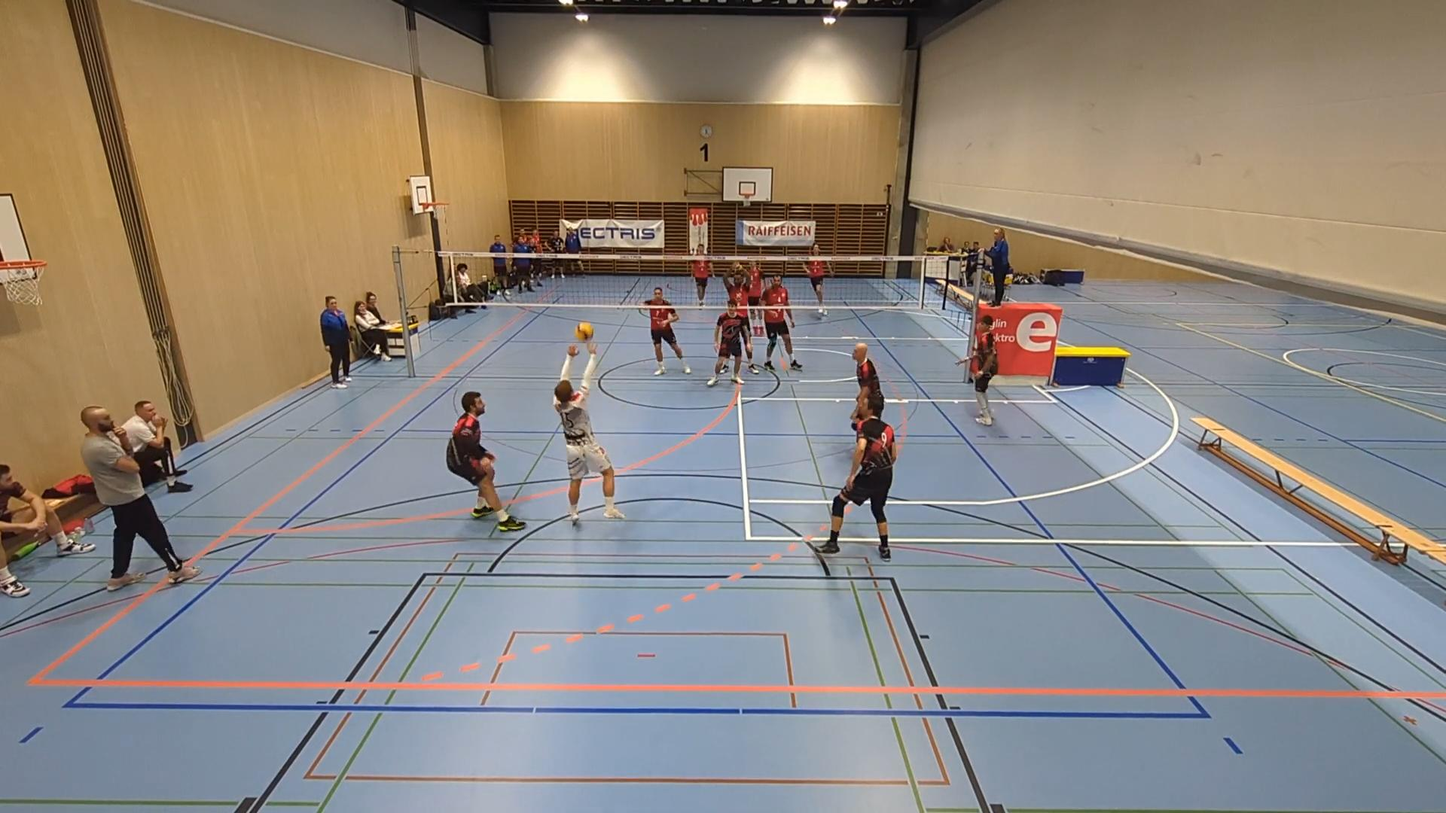Player: (819, 396, 896, 561), (447, 391, 525, 531), (958, 314, 997, 425), (645, 288, 690, 374), (761, 275, 801, 370), (707, 300, 751, 385), (850, 343, 882, 428), (806, 245, 831, 315), (691, 244, 711, 306), (734, 300, 761, 336), (724, 263, 746, 306), (752, 321, 763, 336)
Receive: (553, 340, 621, 528)
ball: (577, 318, 594, 339)
